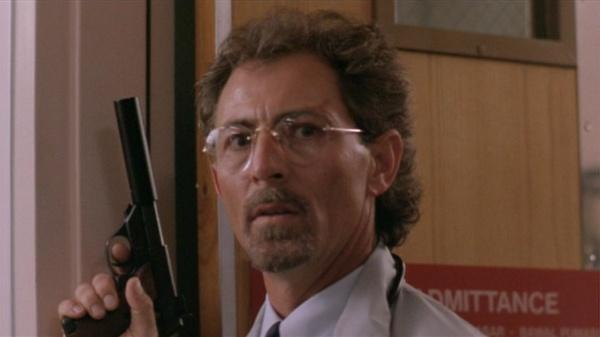Gun: (60, 96, 186, 337)
